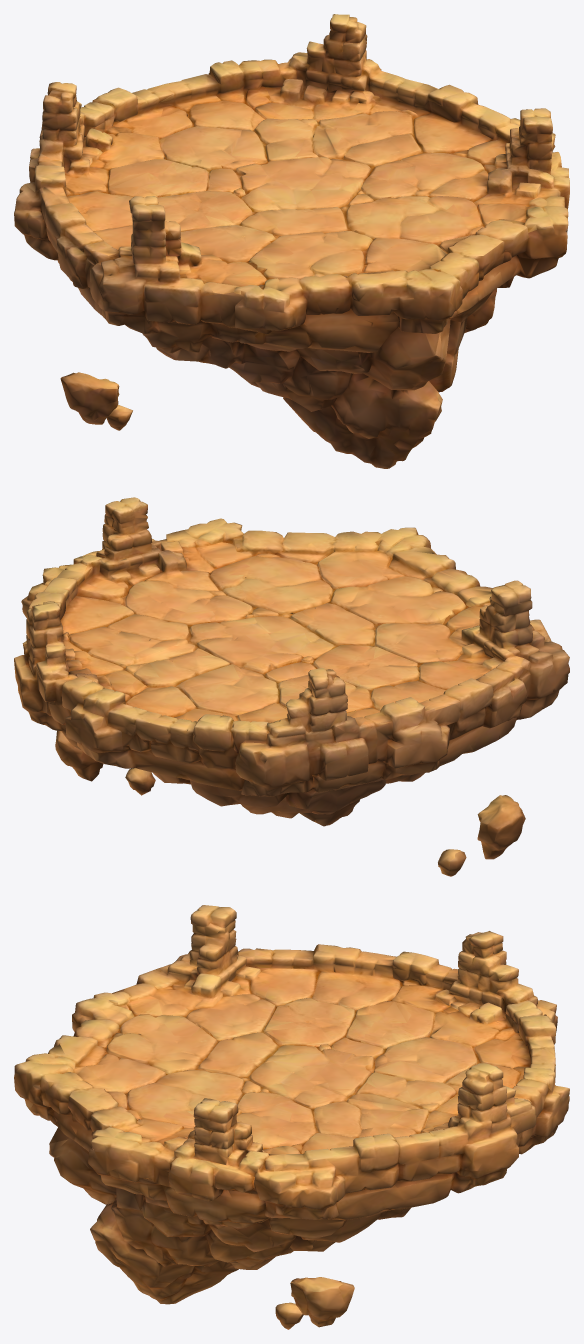
The model's file is R1_Island_Ferry.fbx.
3 views of the same model, one above another, from view 1: azimuth 30°, elevation 25°; view 2: azimuth 150°, elevation 25°; view 3: azimuth 270°, elevation 25° (orthographic). The views are drawn at different scales.
Visible parts, largest first — view 1: R1_Island_Ferry; view 2: R1_Island_Ferry; view 3: R1_Island_Ferry.
Boxes of the visible parts, bbox=[...] form: R1_Island_Ferry: bbox=[14, 14, 569, 468]; R1_Island_Ferry: bbox=[14, 497, 569, 876]; R1_Island_Ferry: bbox=[14, 905, 569, 1329].
Bounding box in the file's own units: 600 × 350 × 600.
1 material, 1 textured.
